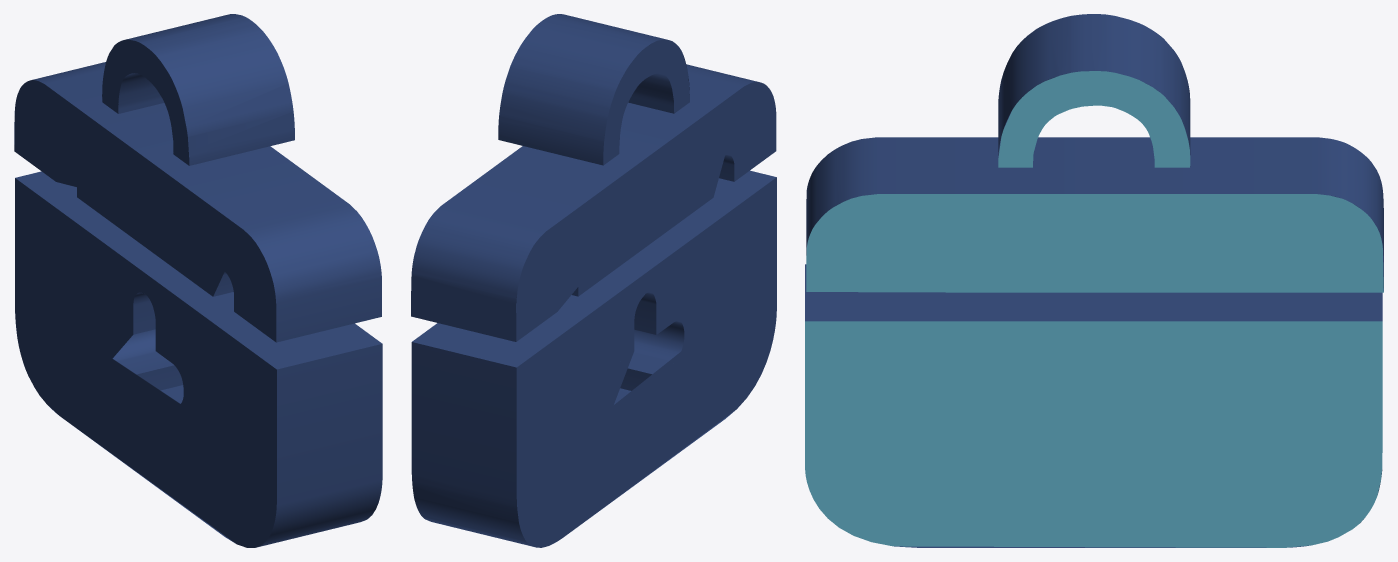
3 renders of one model, left to right at view 1: azimuth 30°, elevation 25°; view 2: azimuth 150°, elevation 25°; view 3: azimuth 270°, elevation 25°, orthographic. The views are drawn at different scales.
Visible parts, largest first — view 1: yy_01; view 2: yy_01; view 3: yy_02, yy_01.
Part boxes in pixels (box(x1,y1,x2,y2)): yy_01: box(14, 14, 382, 547); yy_01: box(411, 14, 776, 547); yy_02: box(805, 71, 1383, 547); yy_01: box(805, 14, 1383, 547).
Bounding box in the file's own units: 46.37 × 181 × 199.
